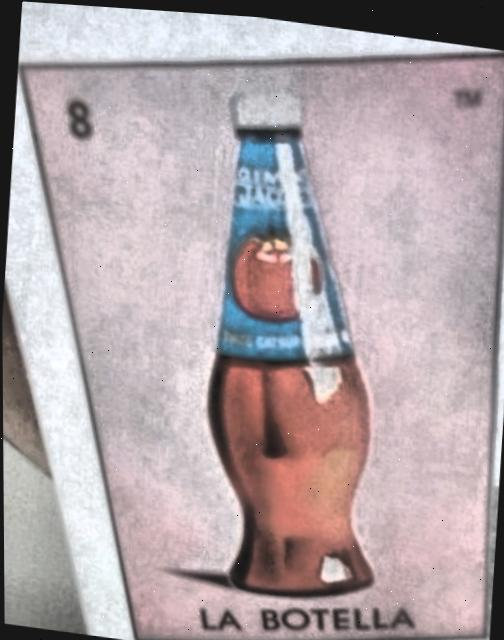La Botella: (20, 48, 504, 637)
